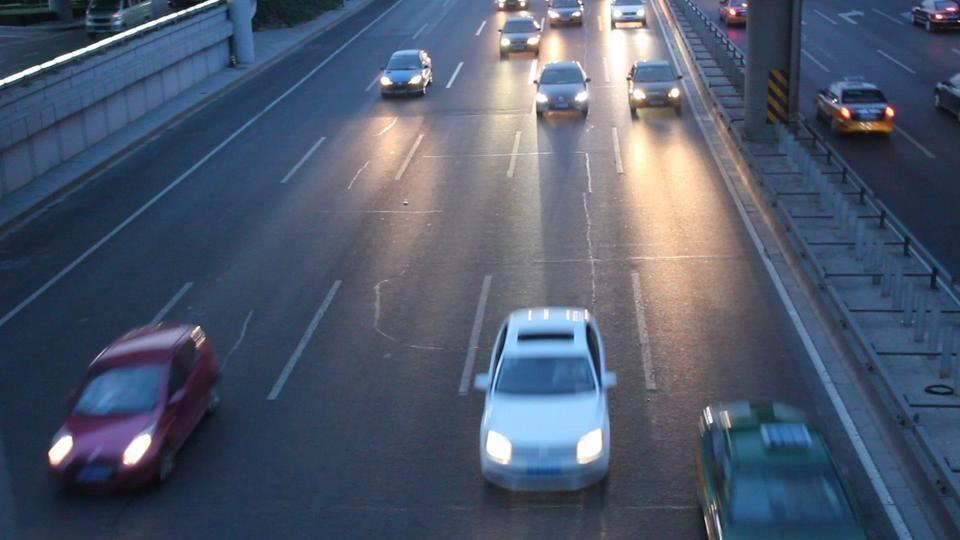car: (45, 321, 223, 498), (476, 305, 617, 493), (691, 399, 868, 539), (815, 75, 896, 136), (84, 0, 174, 39), (533, 60, 592, 119), (626, 59, 685, 115), (379, 49, 434, 99), (499, 15, 543, 58), (911, 0, 960, 33), (933, 71, 960, 122), (609, 1, 647, 29), (546, 0, 585, 27), (719, 0, 749, 27), (496, 0, 530, 13)
